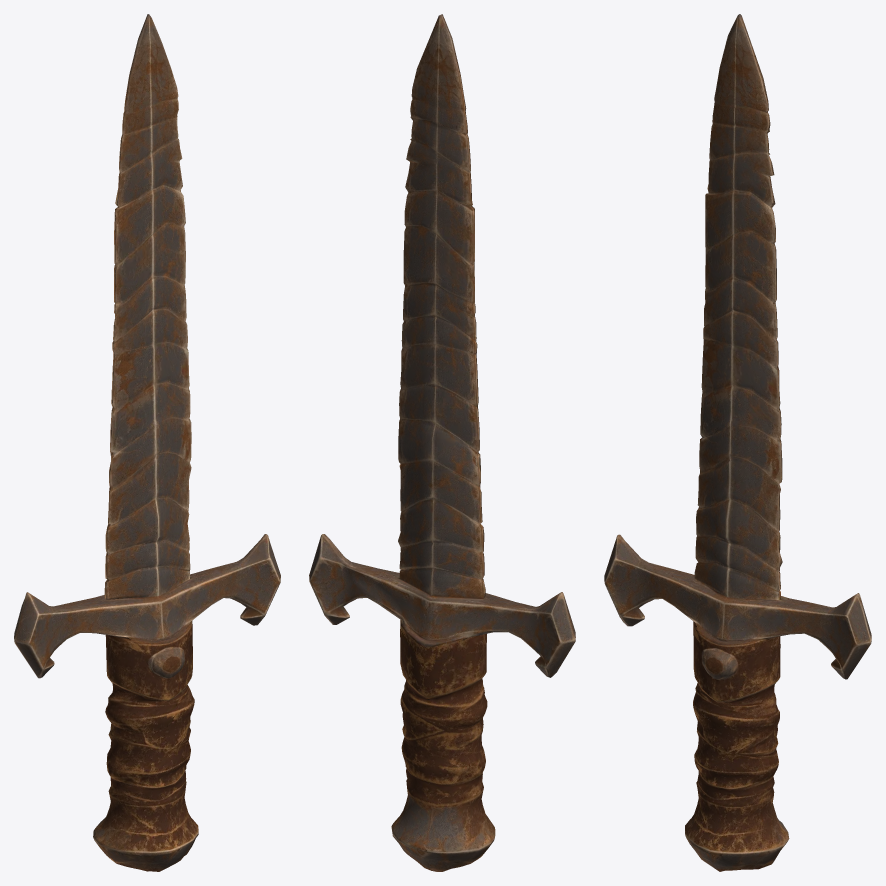
The model's file is arme_poignard.glb.
3 renders of one model, left to right at view 1: azimuth 30°, elevation 25°; view 2: azimuth 150°, elevation 25°; view 3: azimuth 330°, elevation 25°, orthographic.
Bounding box in the file's own units: 0.31 × 0.9507 × 0.102.
Materials: 1 (1 with a texture image).
